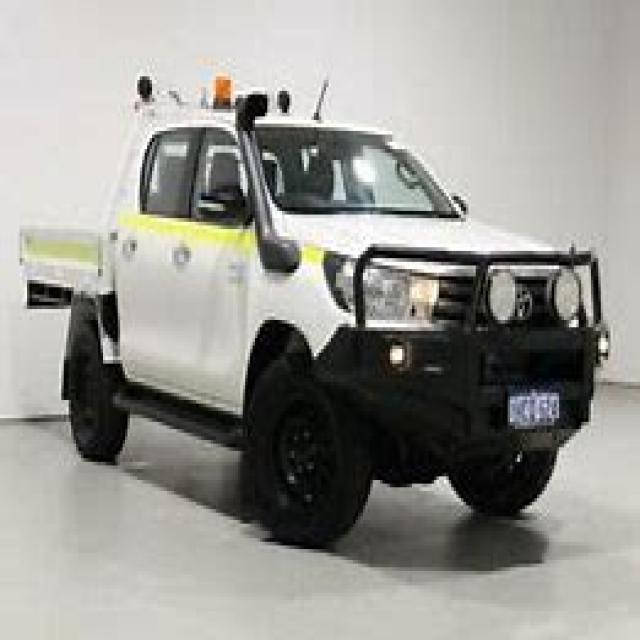light_vehicle: (17, 69, 618, 575)
